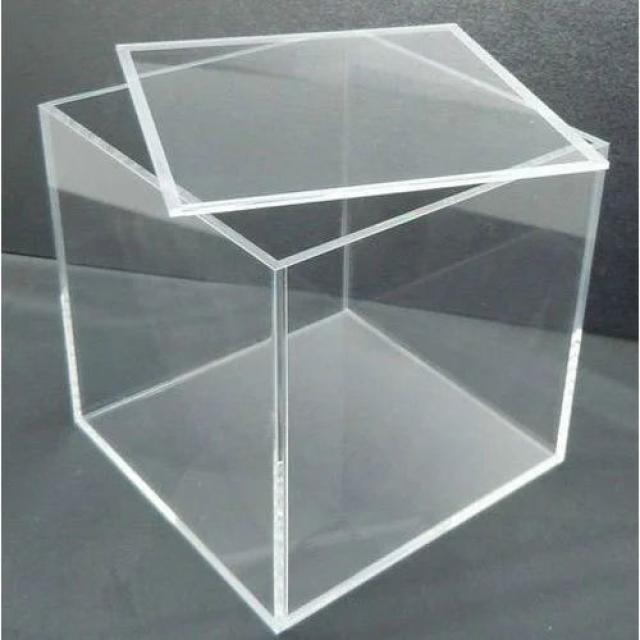glass: (18, 21, 612, 633)
